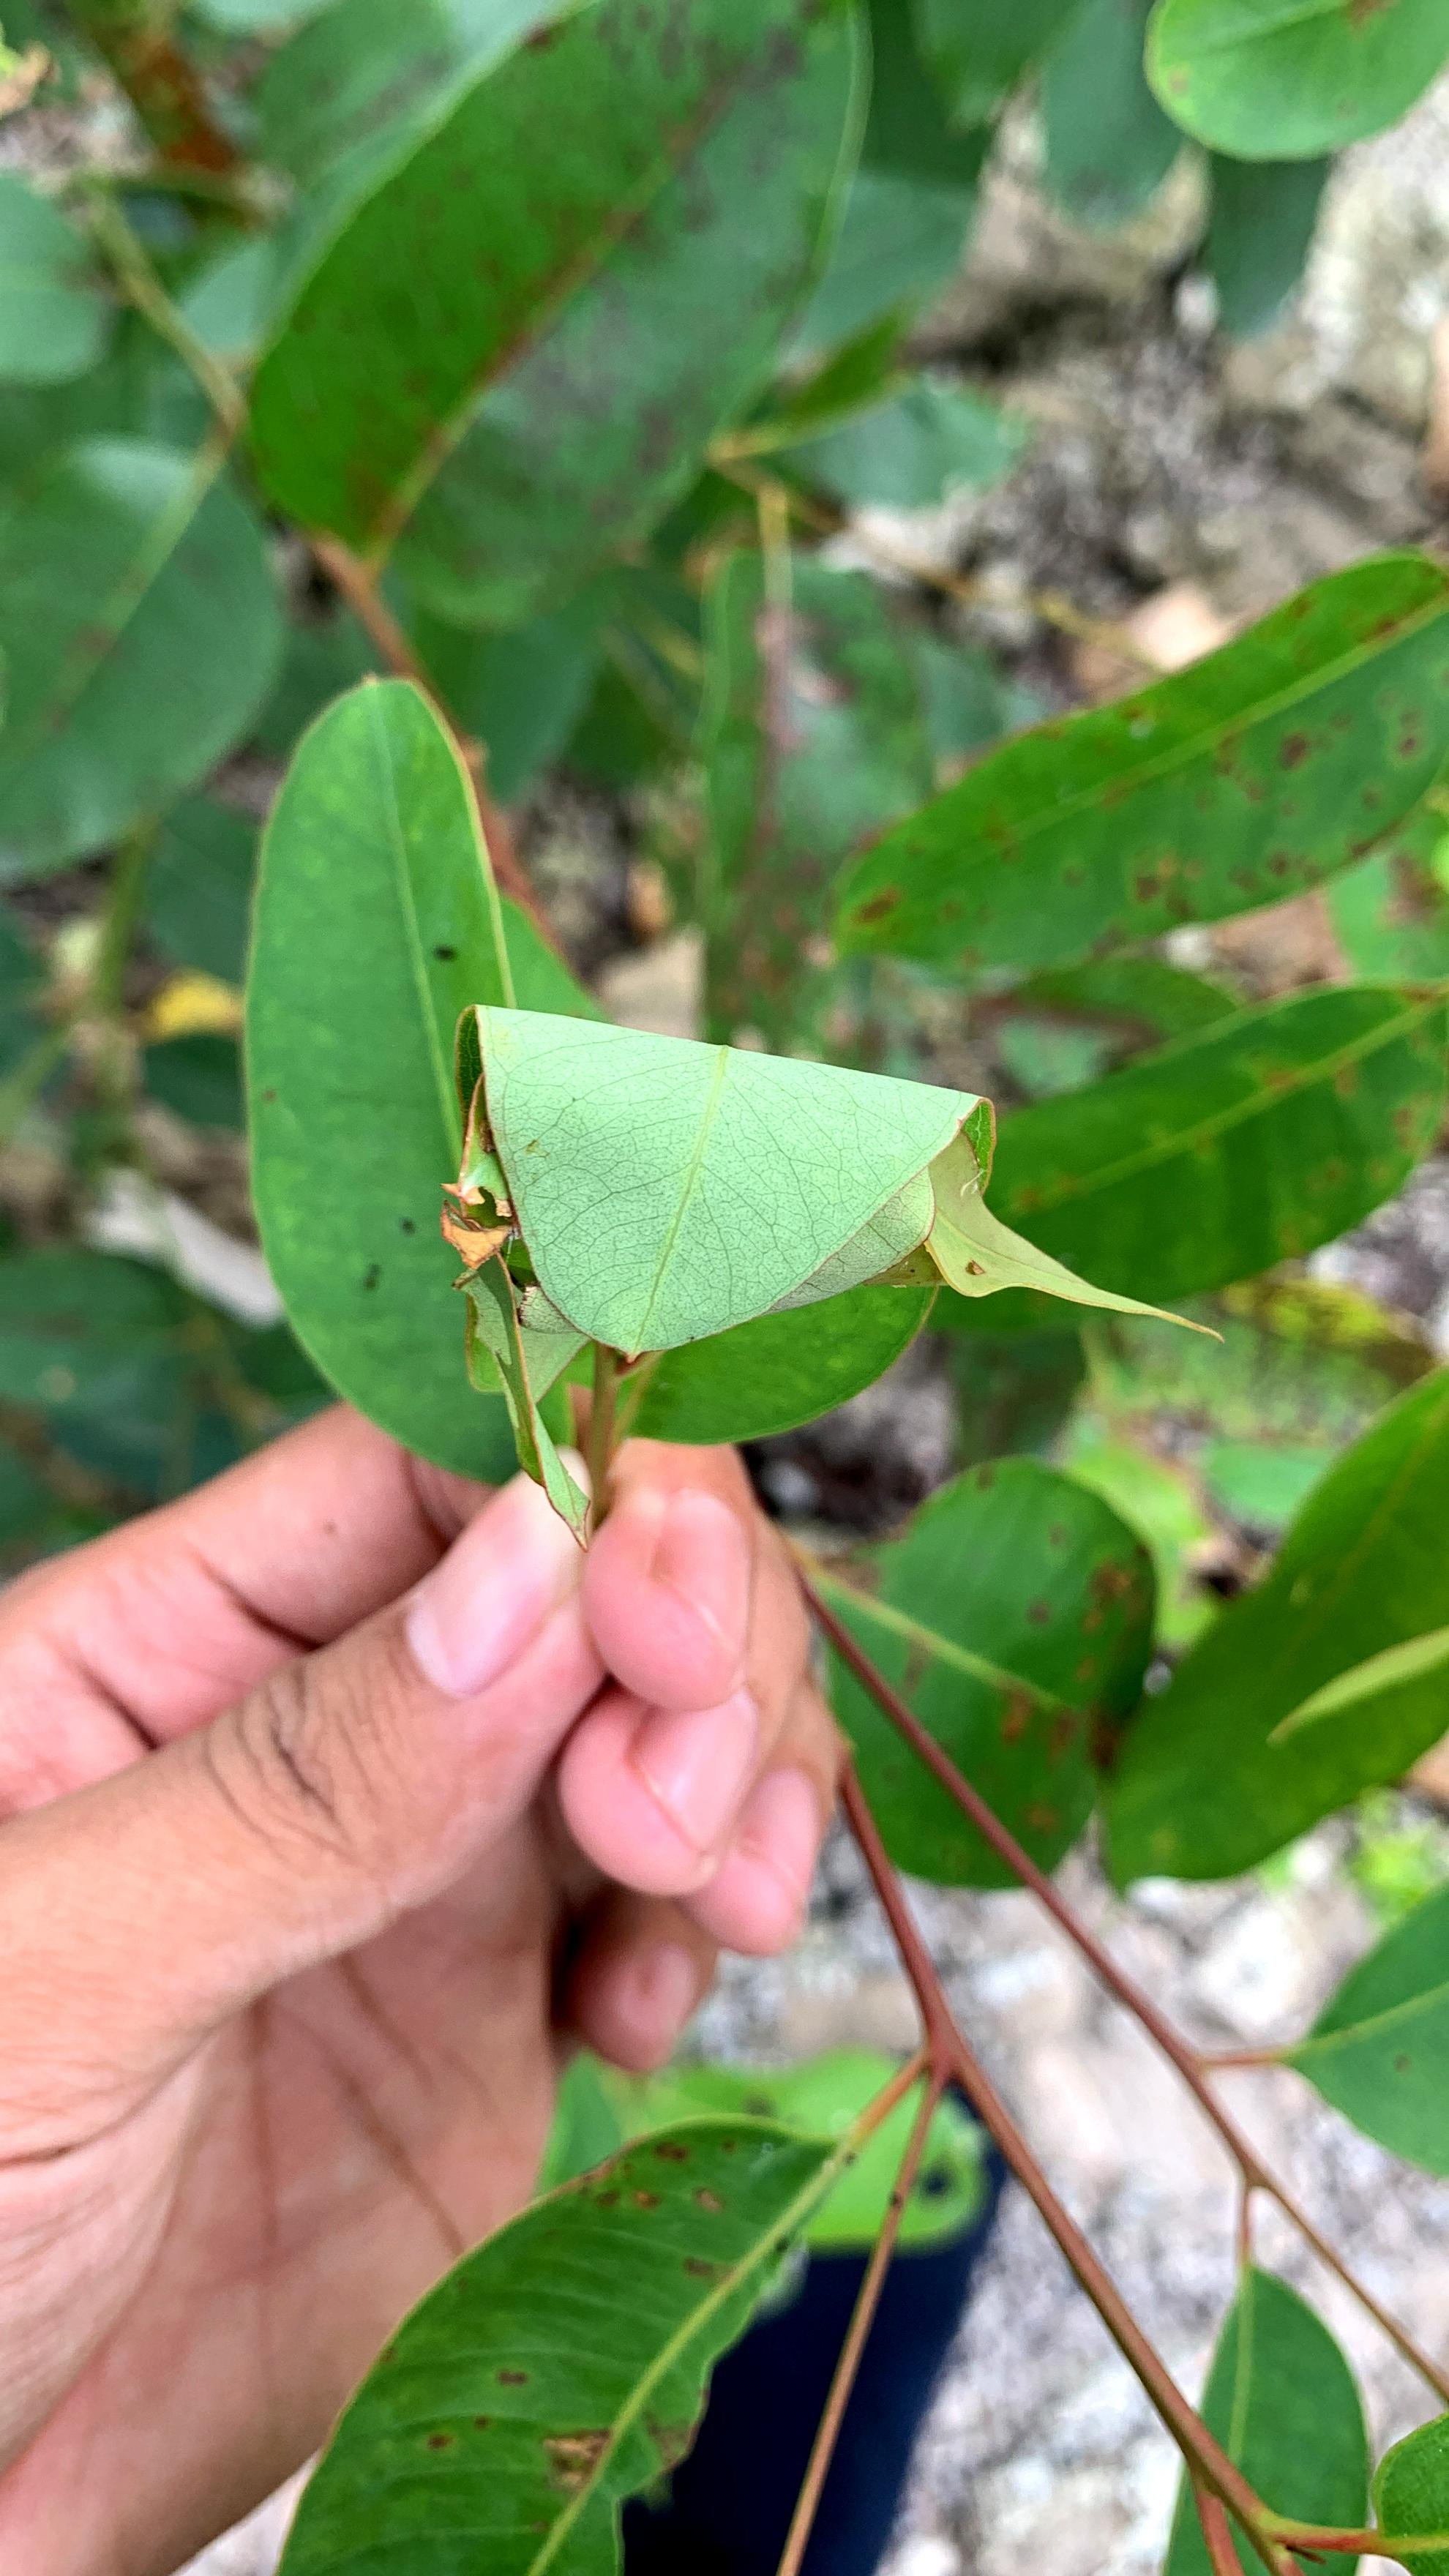Leaf Roller - Leaf: (359, 961, 1246, 1523)
